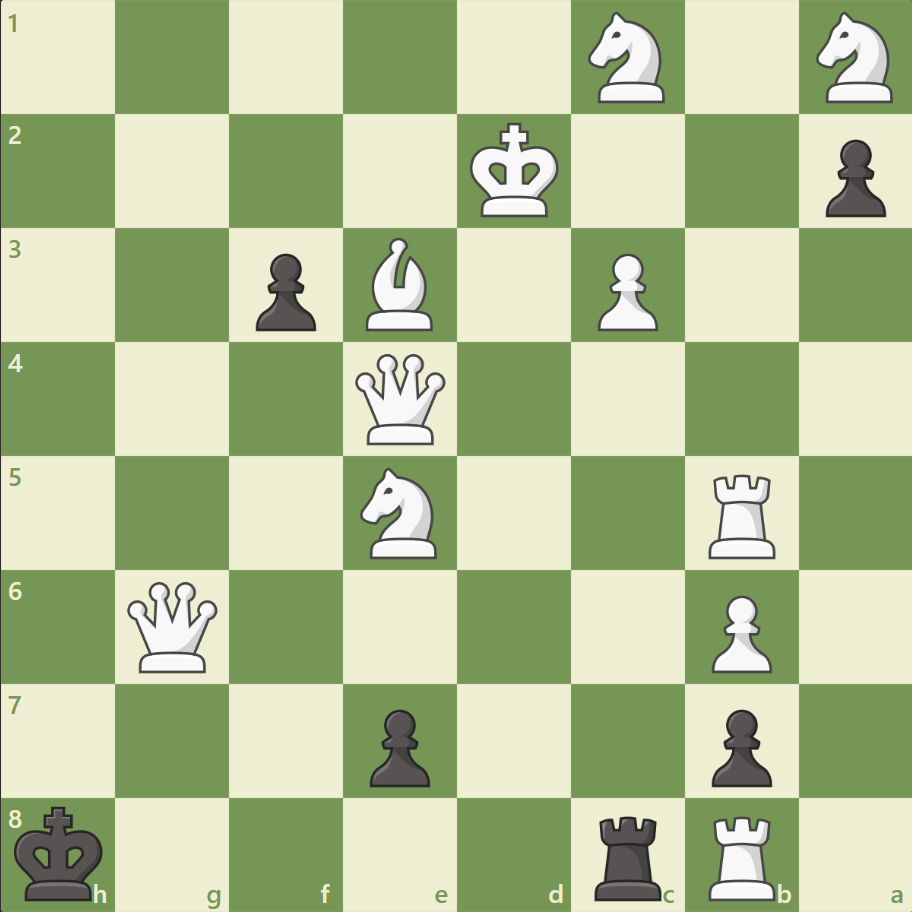B: (358, 233, 442, 336)
K: (465, 117, 565, 225)
N: (351, 461, 449, 564), (806, 7, 903, 110), (579, 7, 676, 110)
P: (701, 586, 776, 677), (588, 246, 662, 337)
Q: (124, 576, 223, 676), (351, 349, 450, 449)
R: (700, 806, 783, 904), (700, 466, 783, 563)
k: (11, 798, 111, 906)
p: (701, 700, 776, 791), (247, 246, 322, 337), (361, 700, 435, 791), (815, 132, 889, 223)
r: (587, 806, 670, 904)
